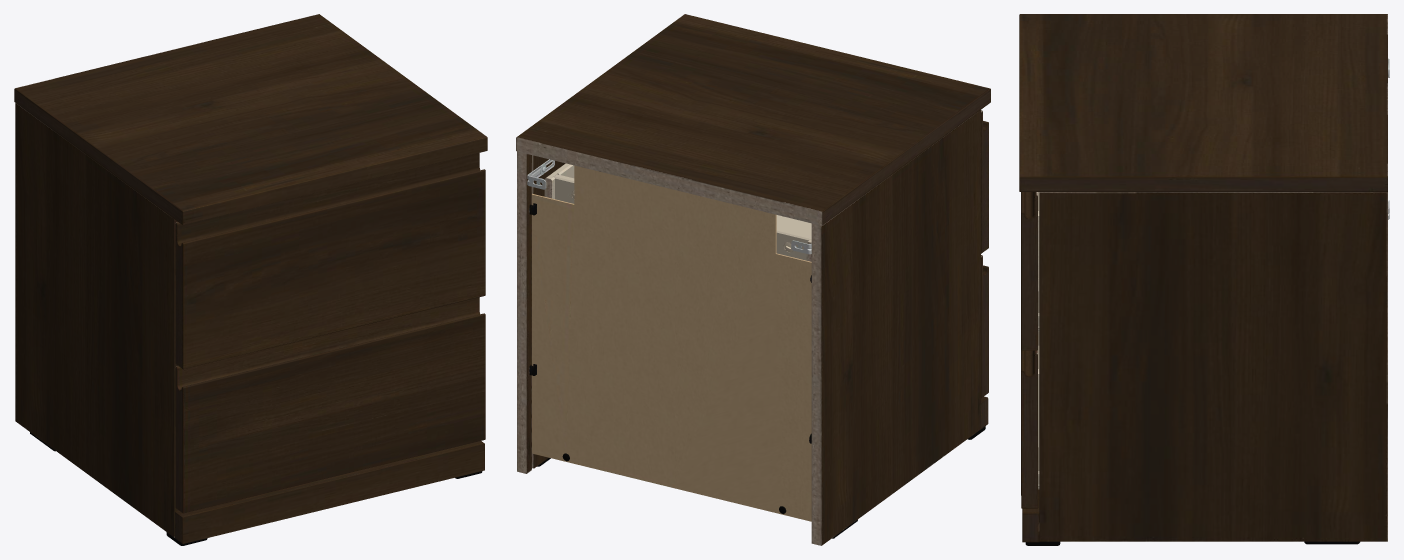
Rendered from storklinta_nightstand_dark_brown_oak_eff.glb.
The picture shows the model from 3 angles, left to right: view 1: azimuth 30°, elevation 25°; view 2: azimuth 150°, elevation 25°; view 3: azimuth 270°, elevation 25°; orthographic projection. The views are drawn at different scales.
Visible parts, largest first — view 1: ASY_ART_70559297_S01_NV01, ASY_LPT02_70559297_S01_NV01, ASY_LPT01_70559297_S01_NV01; view 2: ASY_ART_70559297_S01_NV01, ASY_LPT02_70559297_S01_NV01, ASY_LPT01_70559297_S01_NV01; view 3: ASY_ART_70559297_S01_NV01, ASY_LPT01_70559297_S01_NV01, ASY_LPT02_70559297_S01_NV01.
Boxes of the visible parts, bbox=[...] form: ASY_ART_70559297_S01_NV01: bbox=[14, 14, 487, 545]; ASY_LPT02_70559297_S01_NV01: bbox=[175, 153, 485, 369]; ASY_LPT01_70559297_S01_NV01: bbox=[175, 297, 485, 513]; ASY_ART_70559297_S01_NV01: bbox=[516, 14, 990, 545]; ASY_LPT02_70559297_S01_NV01: bbox=[544, 110, 988, 261]; ASY_LPT01_70559297_S01_NV01: bbox=[981, 255, 988, 398]; ASY_ART_70559297_S01_NV01: bbox=[1019, 14, 1389, 545]; ASY_LPT01_70559297_S01_NV01: bbox=[1021, 331, 1039, 508]; ASY_LPT02_70559297_S01_NV01: bbox=[1021, 192, 1039, 350].
Size of the model in its own units: 0.4989 by 0.5275 by 0.4783.
3 materials, 3 textured.
